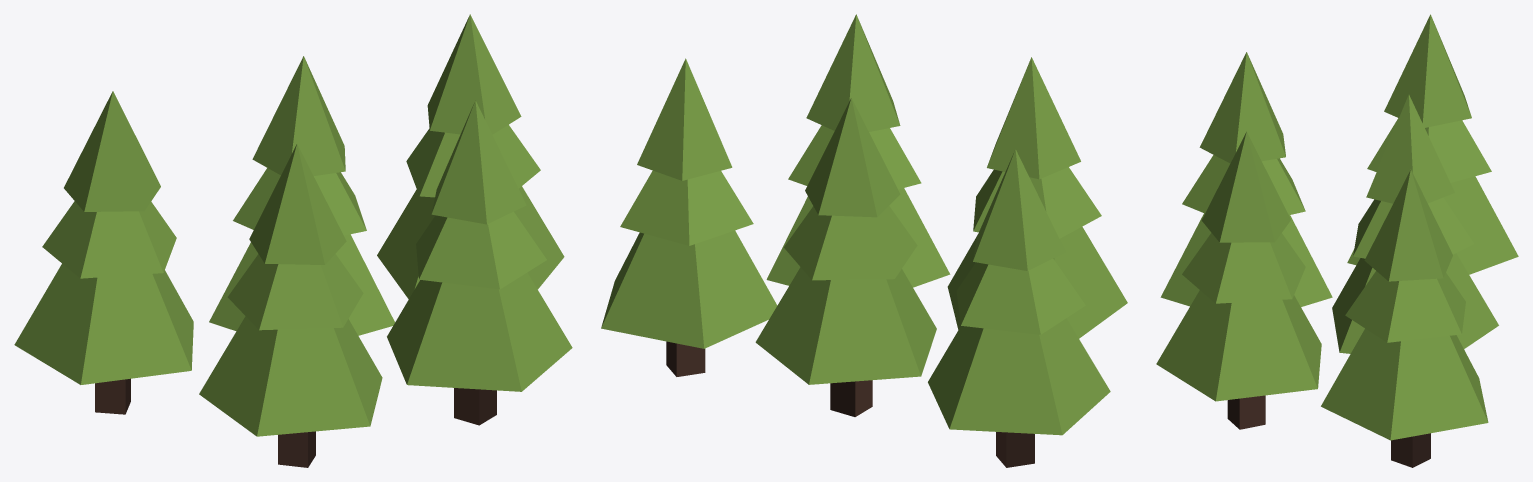
The model's file is TB_Env_TreeTB_C_Large.FBX.
3 views of the same model, side by side, from view 1: azimuth 30°, elevation 25°; view 2: azimuth 150°, elevation 25°; view 3: azimuth 270°, elevation 25° (orthographic). The views are drawn at different scales.
Visible parts, largest first — view 1: TB_Env_TreeTB_C_Large; view 2: TB_Env_TreeTB_C_Large; view 3: TB_Env_TreeTB_C_Large.
Boxes of the visible parts, left/top/right/bottom form: TB_Env_TreeTB_C_Large: left=14, top=14, right=572, bottom=467; TB_Env_TreeTB_C_Large: left=601, top=14, right=1127, bottom=467; TB_Env_TreeTB_C_Large: left=1156, top=14, right=1518, bottom=467.
Size of the model in its own units: 9.54 by 5.74 by 6.49.
